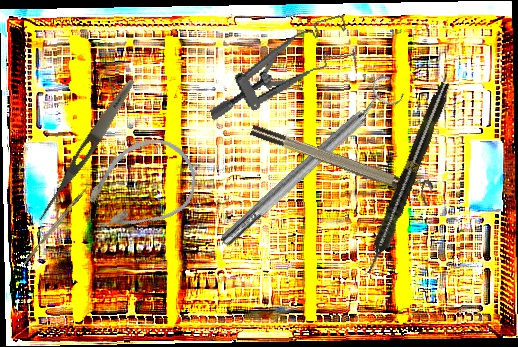Cannula: (69, 124, 209, 251)
Chopper: (18, 180, 93, 265)
Dressing Forceps: (34, 76, 139, 225)
Fixation Ring: (209, 70, 410, 255), (248, 113, 436, 207)
Handpiece: (360, 80, 454, 277)
Speculum: (194, 13, 363, 123)
